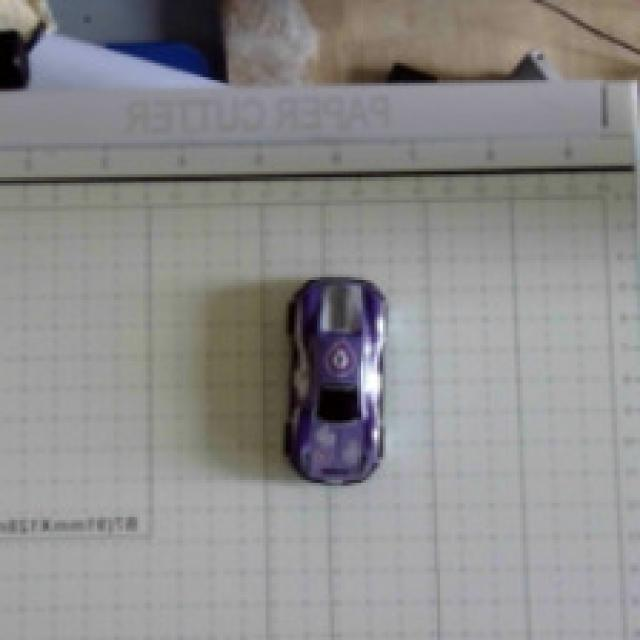Purple Car: (233, 245, 415, 520)
